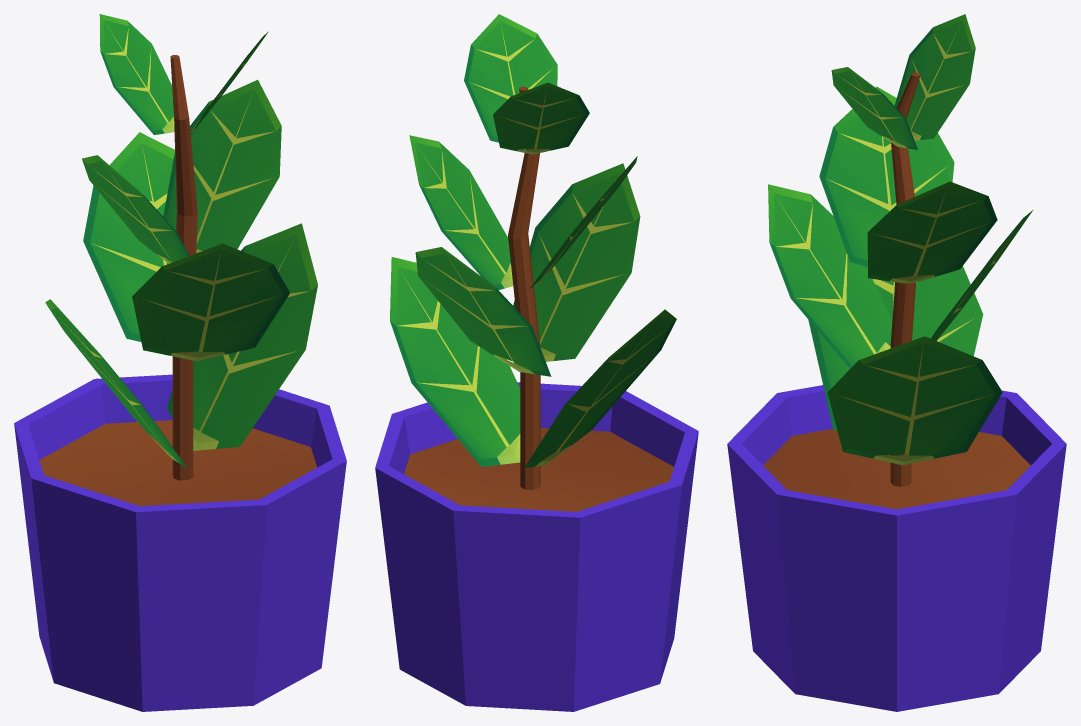
File: Garden_LeafyStick_pot.fbx
The picture shows the model from 3 angles, left to right: view 1: azimuth 30°, elevation 25°; view 2: azimuth 150°, elevation 25°; view 3: azimuth 270°, elevation 25°; orthographic projection. The views are drawn at different scales.
Parts seen in each view (by area): view 1: Cylinder.043; view 2: Cylinder.043; view 3: Cylinder.043.
Part boxes in pixels (x1,y1,x2,y2): Cylinder.043: (14,14,346,711); Cylinder.043: (375,14,698,711); Cylinder.043: (727,14,1066,711).
Bounding box in the file's own units: 39.06 × 78.08 × 39.06.
